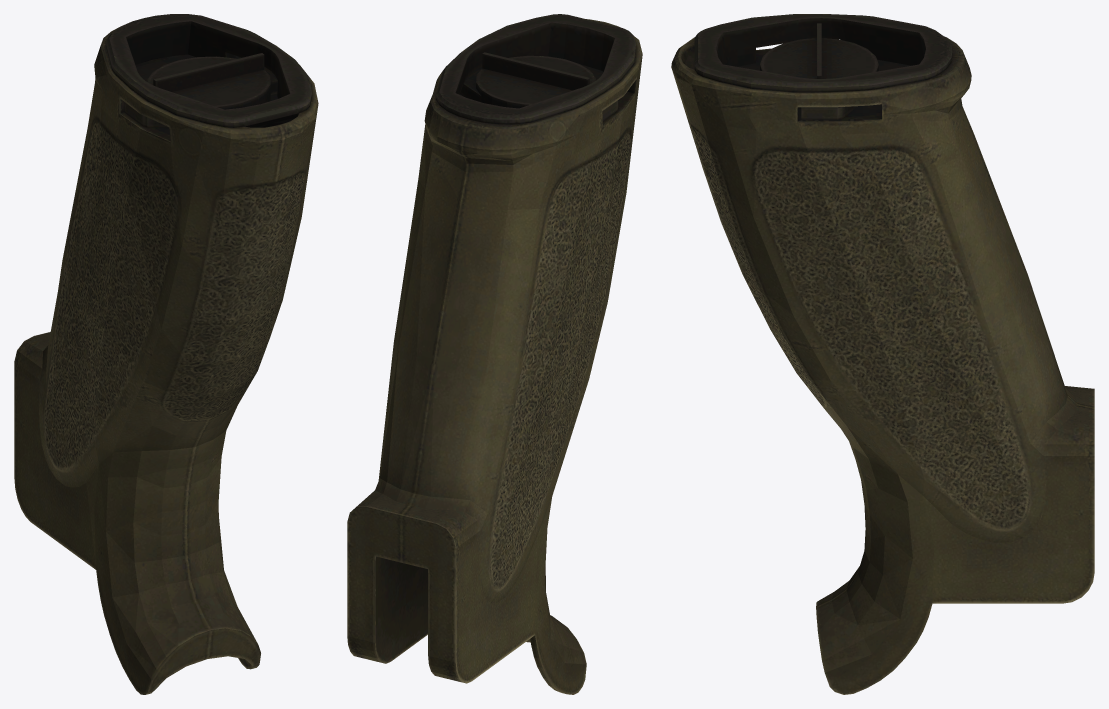
3 renders of one model, left to right at view 1: azimuth 30°, elevation 25°; view 2: azimuth 150°, elevation 25°; view 3: azimuth 270°, elevation 25°, orthographic. The views are drawn at different scales.
Parts seen in each view (by area): view 1: TW_6193dcd0f8ee7e52e4210a28_PZ_Import; view 2: TW_6193dcd0f8ee7e52e4210a28_PZ_Import; view 3: TW_6193dcd0f8ee7e52e4210a28_PZ_Import.
Boxes of the visible parts, x1=… form: TW_6193dcd0f8ee7e52e4210a28_PZ_Import: x1=14, y1=14, x2=318, y2=694; TW_6193dcd0f8ee7e52e4210a28_PZ_Import: x1=347, y1=14, x2=642, y2=694; TW_6193dcd0f8ee7e52e4210a28_PZ_Import: x1=671, y1=14, x2=1094, y2=694.
Bounding box in the file's own units: 0.019 × 0.0442 × 0.0713.
1 material, 1 textured.
